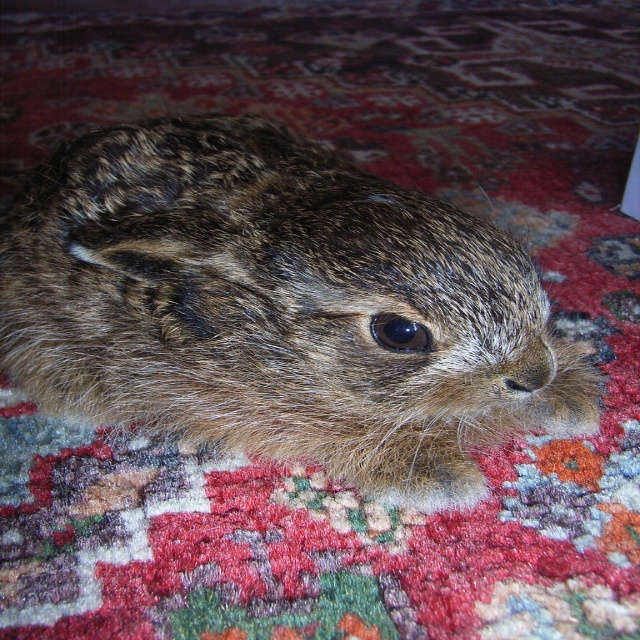Rabbit: (0, 114, 614, 514)
